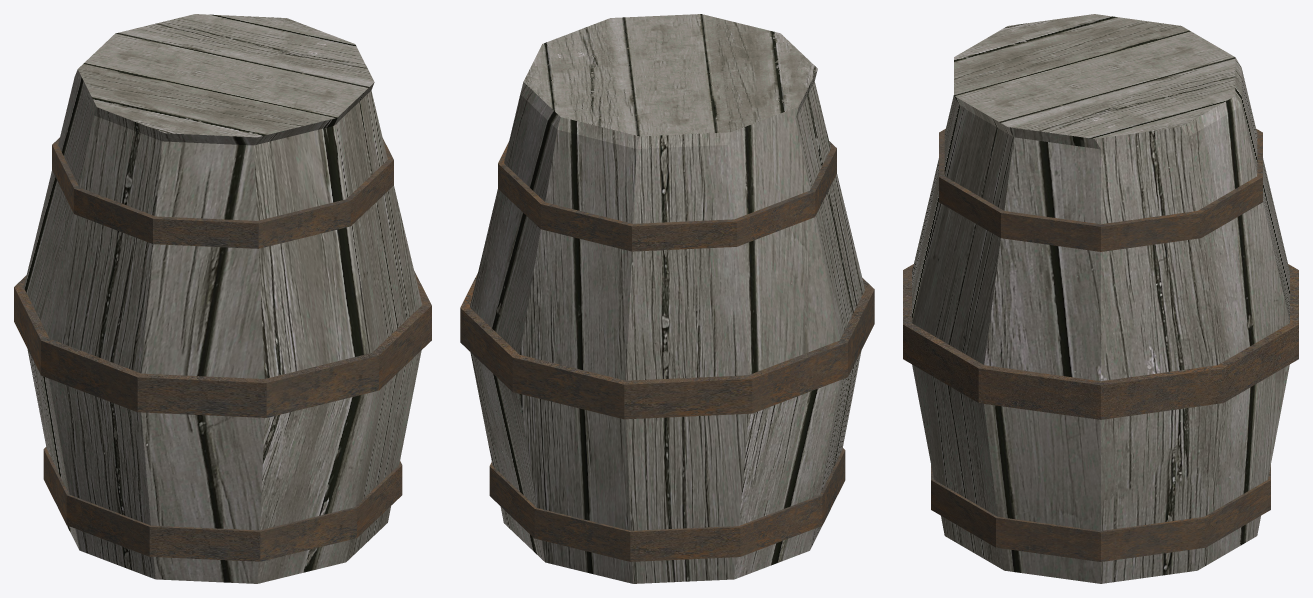
The model's file is Barril.fbx.
3 views of the same model, side by side, from view 1: azimuth 30°, elevation 25°; view 2: azimuth 150°, elevation 25°; view 3: azimuth 270°, elevation 25° (orthographic).
Visible parts, largest first — view 1: BARRIL1, BARRIL2; view 2: BARRIL1, BARRIL2; view 3: BARRIL1, BARRIL2.
Part boxes in pixels (x1,y1,x2,y2): BARRIL1: (23, 14, 422, 583); BARRIL2: (14, 137, 431, 561); BARRIL1: (470, 14, 864, 583); BARRIL2: (460, 141, 874, 561); BARRIL1: (912, 14, 1289, 583); BARRIL2: (903, 129, 1298, 561).
Size of the model in its own units: 17.83 by 20.71 by 16.96.
